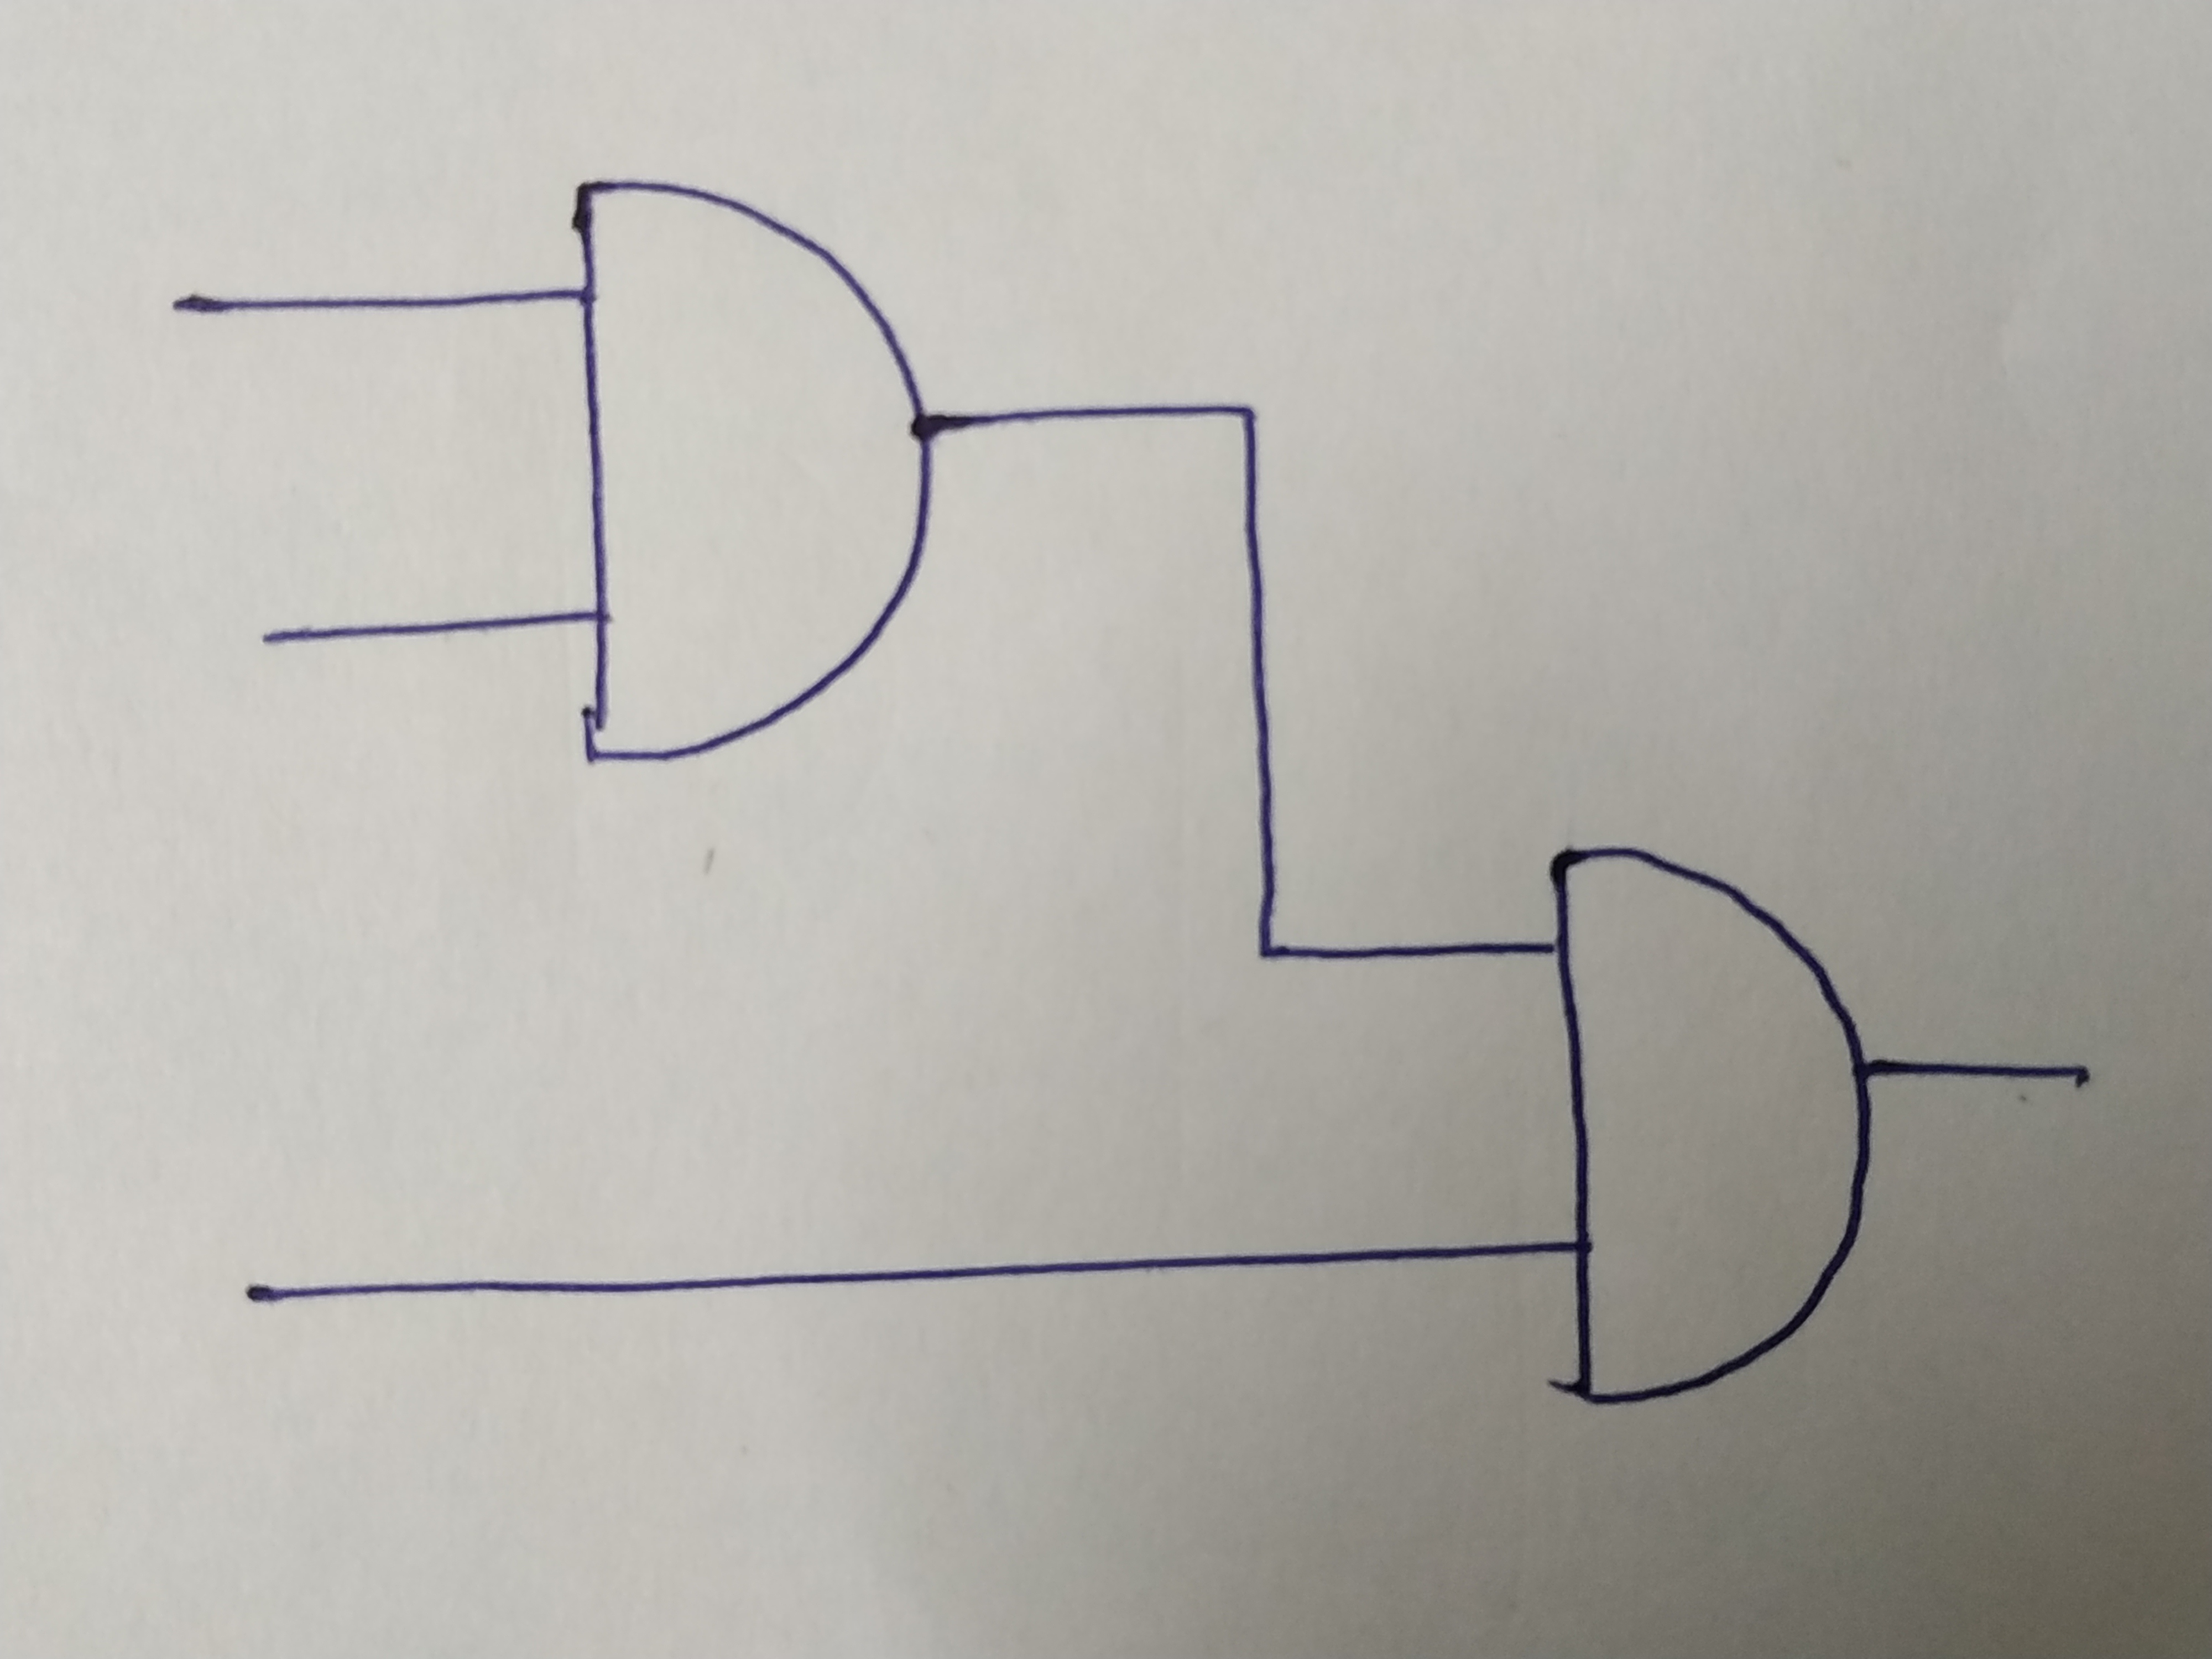and: (578, 173, 925, 762), (1555, 845, 1879, 1403)
